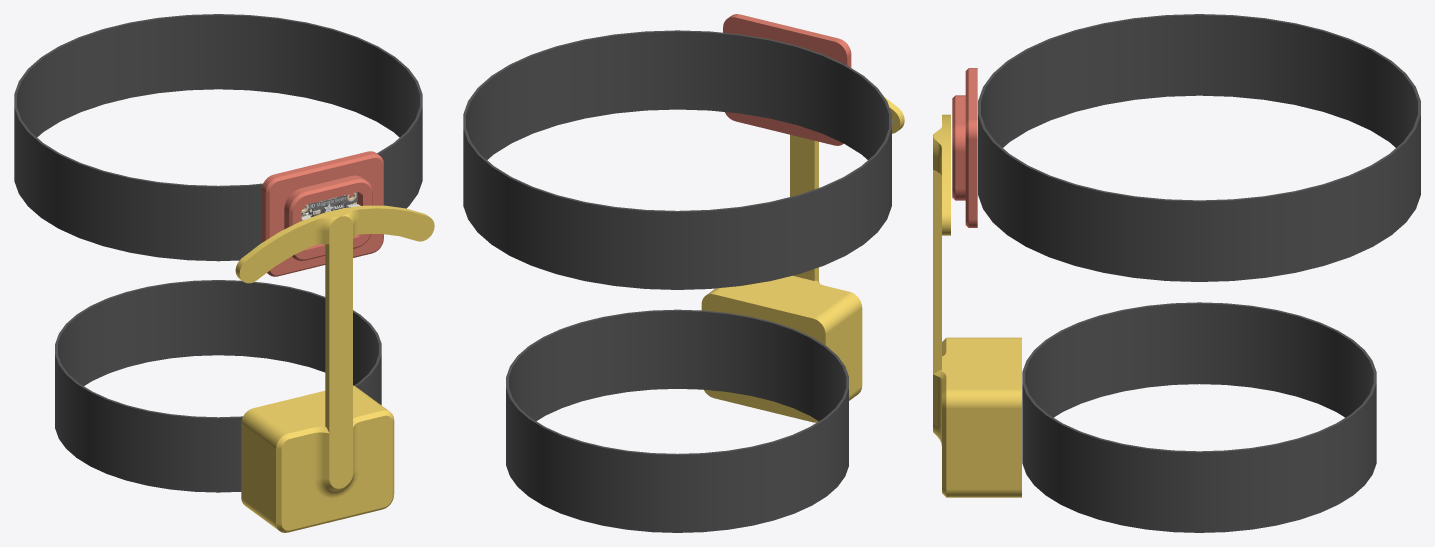
Rendered from ankered.glb.
3 renders of one model, left to right at view 1: azimuth 30°, elevation 25°; view 2: azimuth 150°, elevation 25°; view 3: azimuth 270°, elevation 25°, orthographic. The views are drawn at different scales.
Visible parts, largest first — view 1: Ankered; view 2: Ankered; view 3: Ankered.
Boxes of the visible parts, x1,y1,x2,y2 form: Ankered: (14, 14, 434, 532); Ankered: (463, 14, 904, 532); Ankered: (933, 14, 1420, 532).
Size of the model in its own units: 15 by 14.05 by 16.48.
